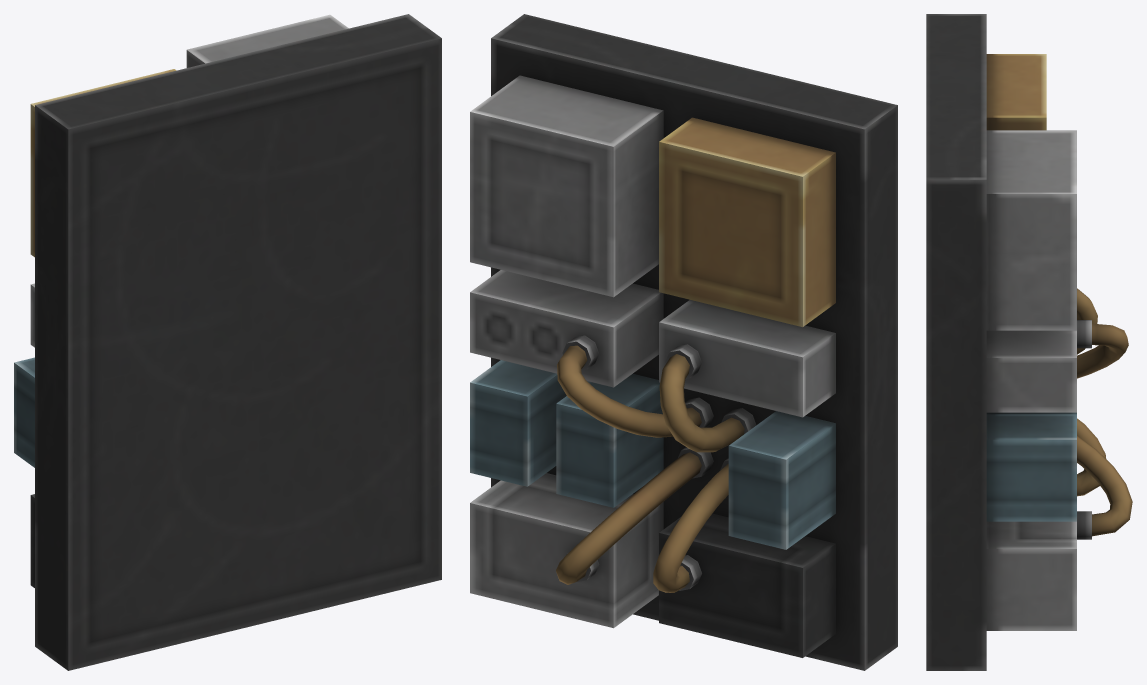
Rendered from 1f_sensor_gamma_ray_spectrometer_srf_1.obj.
The picture shows the model from 3 angles, left to right: view 1: azimuth 30°, elevation 25°; view 2: azimuth 150°, elevation 25°; view 3: azimuth 270°, elevation 25°; orthographic projection. The views are drawn at different scales.
Visible parts, largest first — view 1: mesh1; view 2: mesh1; view 3: mesh1.
Part boxes in pixels (<box>): mesh1: <box>14,14,441,670</box>; mesh1: <box>470,14,897,670</box>; mesh1: <box>926,14,1132,670</box>.
Size of the model in its own units: 0.325 by 0.45 by 0.1712.
1 material, 1 textured.
